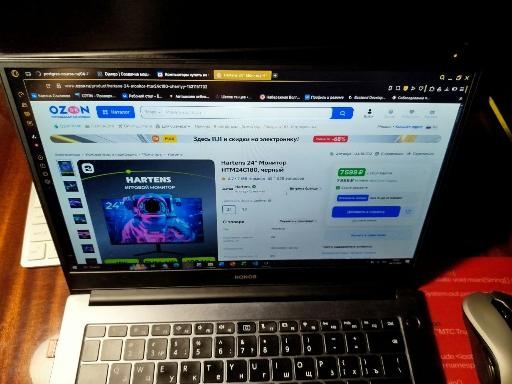ozon: (37, 103, 447, 260)
